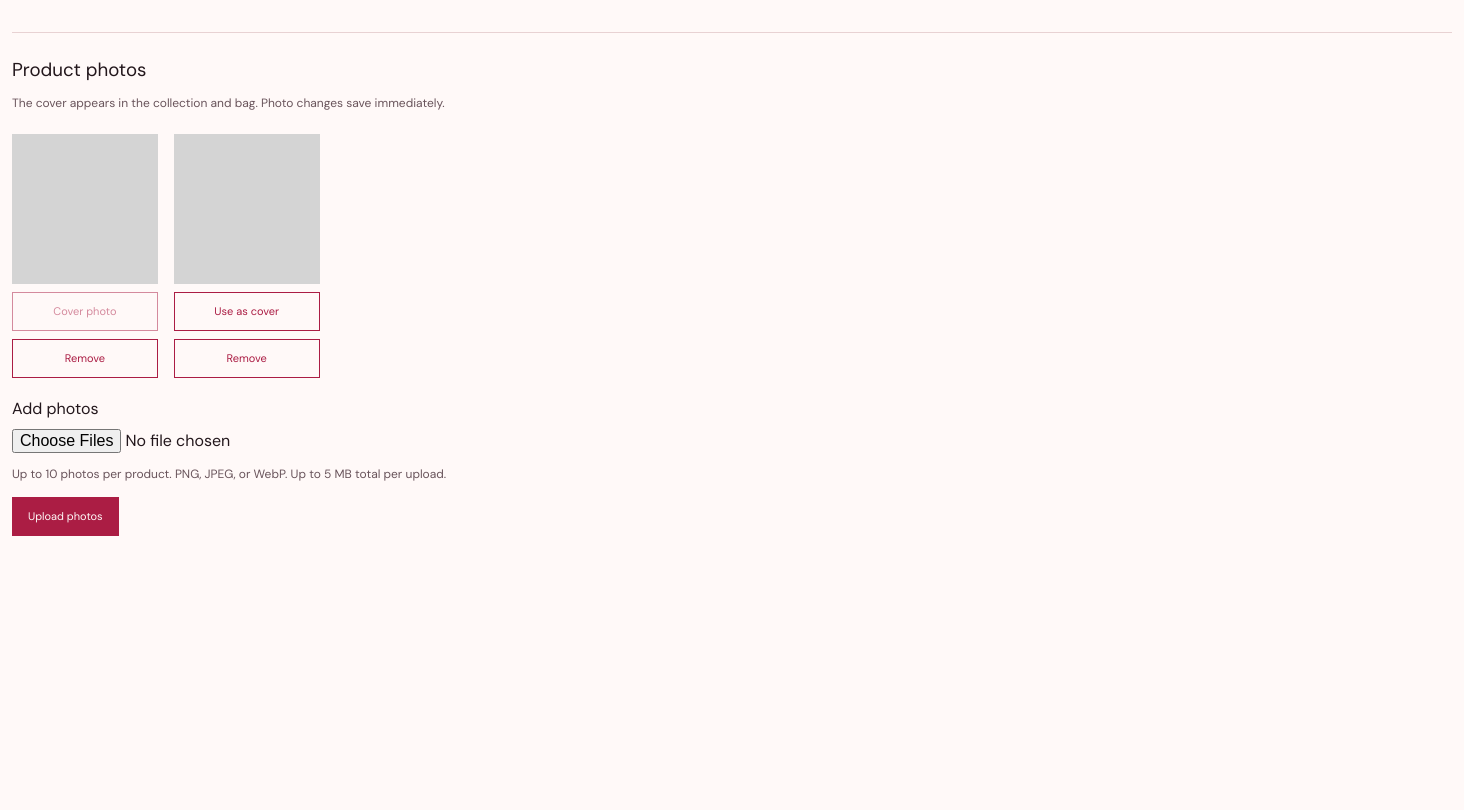
it: changes the cover and removes a photo while preserving one photo
Click the button "Use as cover" at [247, 311], box [174,292,320,331]
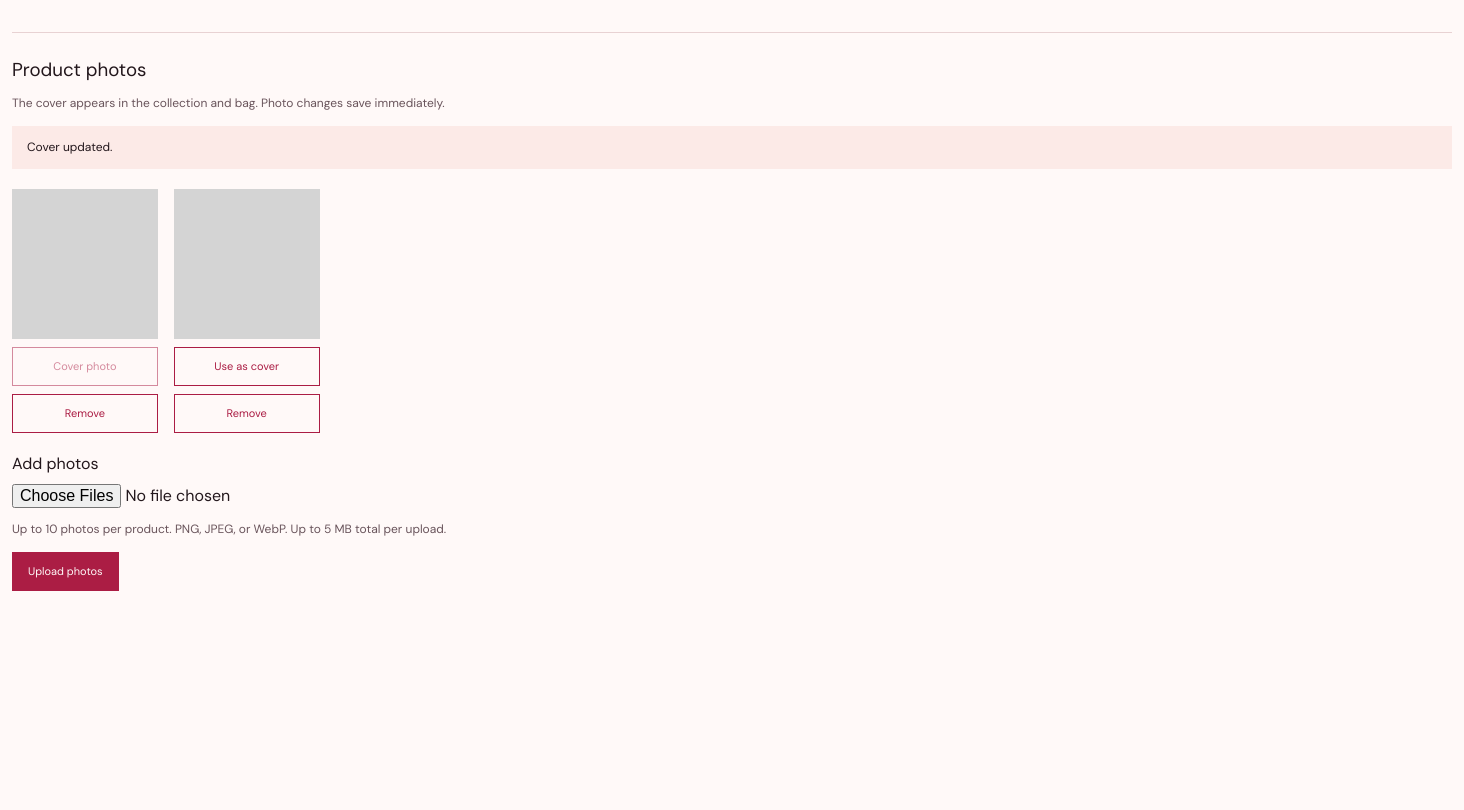
Expected: the text "Cover updated." is shown, [12,126,1452,169]
Click the button with aria-label "Remove photo 2" at [247, 414], box [174,394,320,433]
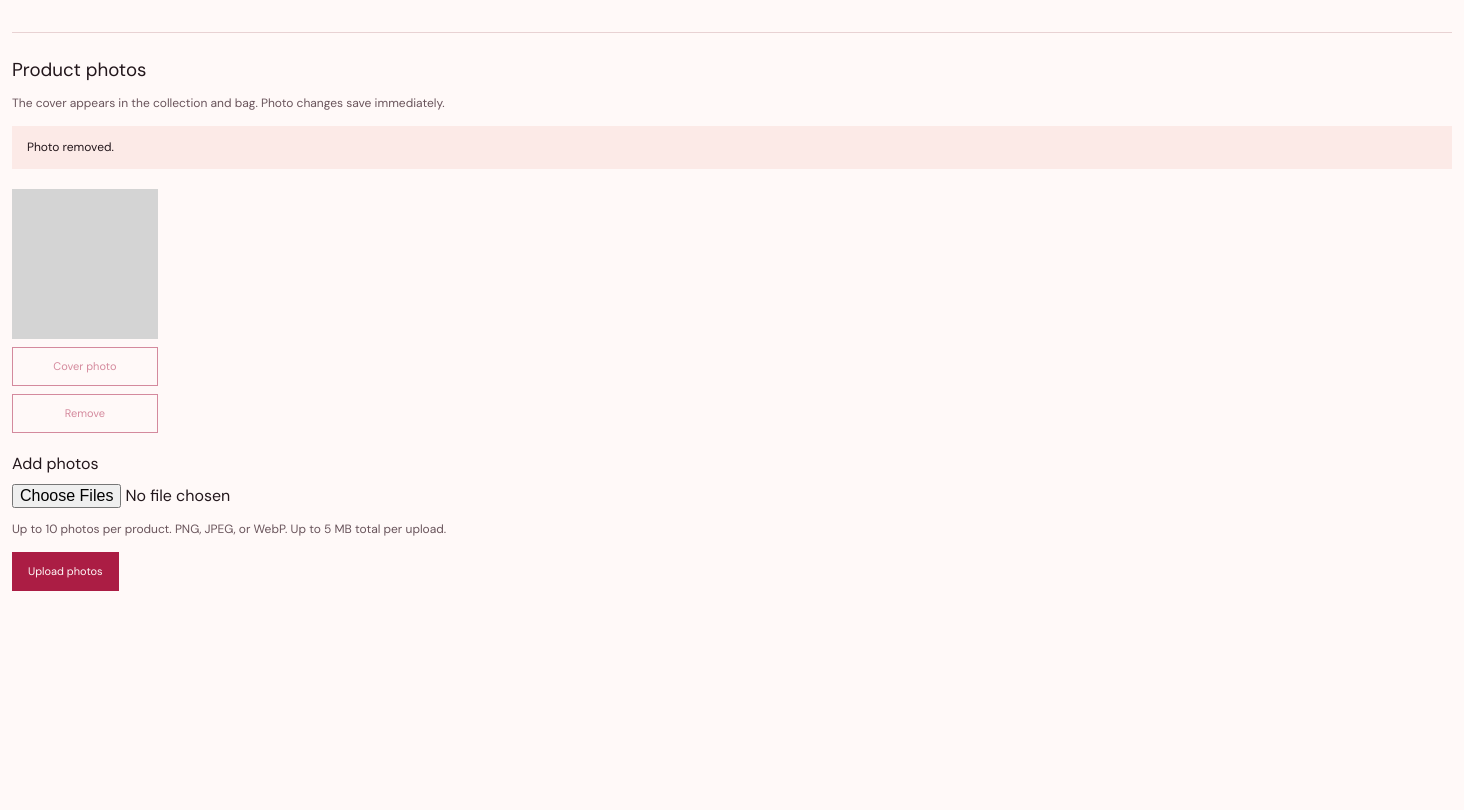
Expected: the text "Photo removed." is shown, [12,126,1452,169]
Expected: the button with aria-label "Remove photo 1" is disabled, [12,394,158,433]
